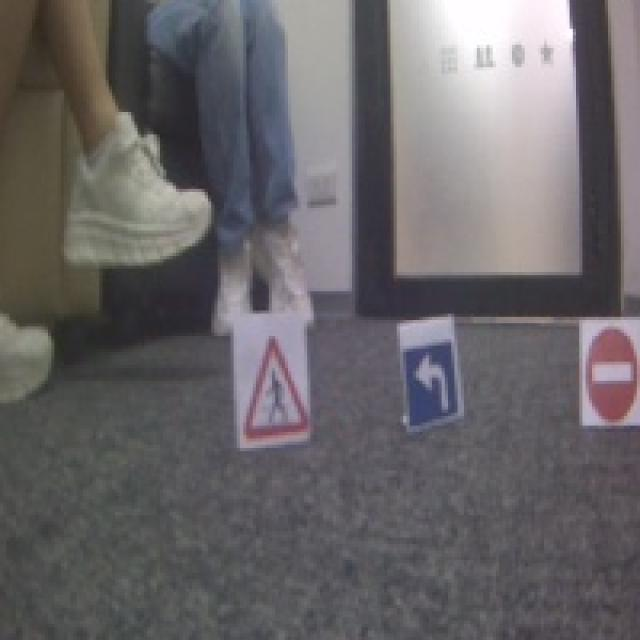DoNotEnterSign: (582, 320, 640, 422)
